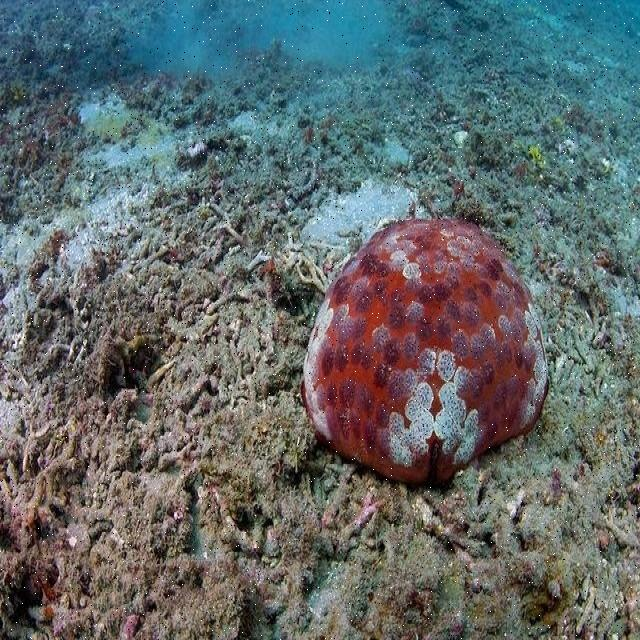reefs: (303, 211, 546, 486)
